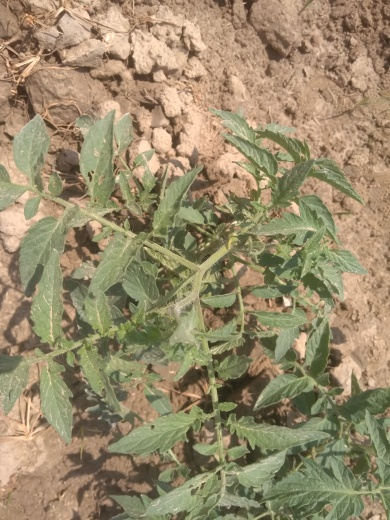tomato diseased leaf: (72, 117, 123, 208), (143, 464, 218, 520), (337, 416, 390, 482)
tomato plant: (30, 132, 364, 515)
